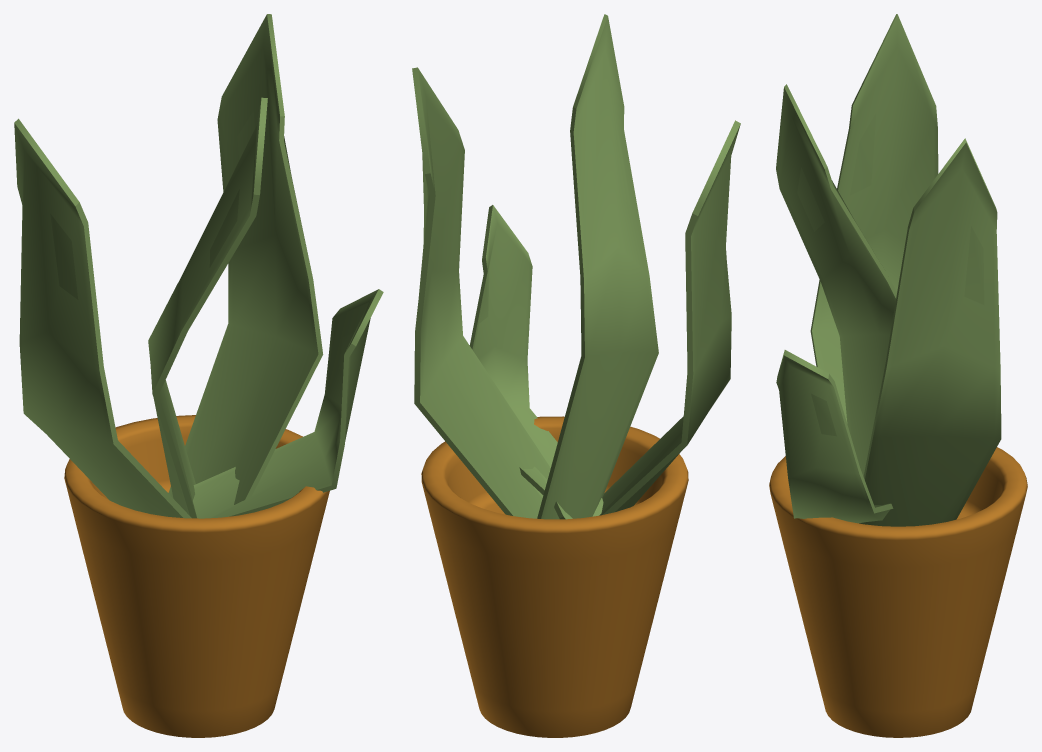
File: plant.fbx
3 views of the same model, side by side, from view 1: azimuth 30°, elevation 25°; view 2: azimuth 150°, elevation 25°; view 3: azimuth 270°, elevation 25° (orthographic). The views are drawn at different scales.
Parts seen in each view (by area): view 1: pCube88, pCylinder7; view 2: pCube88, pCylinder7; view 3: pCube88, pCylinder7.
Boxes of the visible parts, x1,y1,x2,y2 form: pCube88: (14, 14, 383, 518); pCylinder7: (64, 415, 329, 737); pCube88: (412, 14, 740, 519); pCylinder7: (421, 416, 688, 737); pCube88: (776, 14, 1001, 526); pCylinder7: (769, 447, 1027, 737).
Size of the model in its own units: 14.3 by 28.66 by 10.7.
